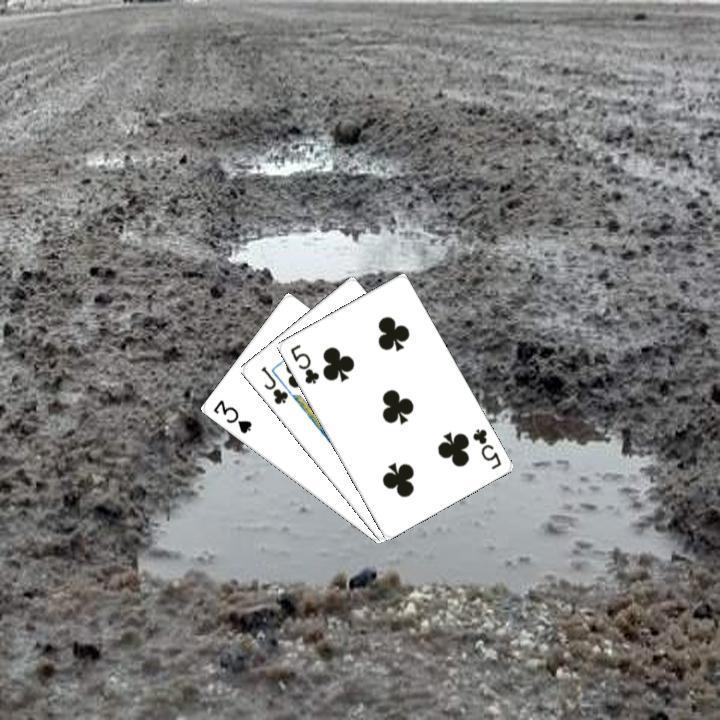3: (208, 395, 254, 436)
5: (285, 340, 321, 386), (468, 424, 503, 471)
J: (256, 362, 290, 407)
